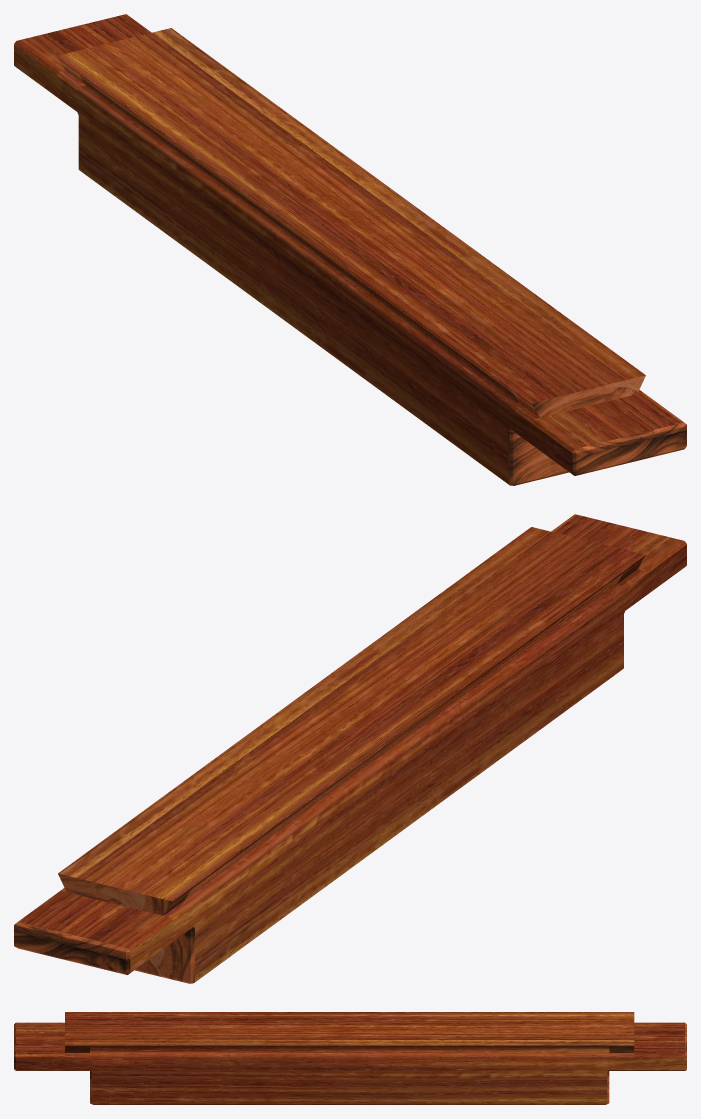
The model's file is changfangwu_D_J_dengmian_06.FBX.
3 views of the same model, one above another, from view 1: azimuth 30°, elevation 25°; view 2: azimuth 150°, elevation 25°; view 3: azimuth 270°, elevation 25° (orthographic). The views are drawn at different scales.
Parts seen in each view (by area): view 1: changfangwu_D_J_dengmian_06; view 2: changfangwu_D_J_dengmian_06; view 3: changfangwu_D_J_dengmian_06.
Boxes of the visible parts, bbox=[...] form: changfangwu_D_J_dengmian_06: bbox=[14, 14, 686, 485]; changfangwu_D_J_dengmian_06: bbox=[14, 514, 686, 983]; changfangwu_D_J_dengmian_06: bbox=[14, 1012, 686, 1104].
Size of the model in its own units: 3 by 2.5 by 25.37.
Materials: 2 (2 with a texture image).
